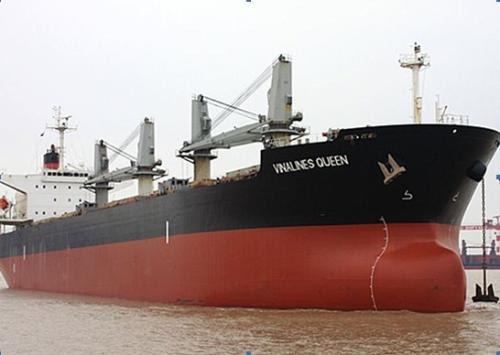Cargoship: (1, 39, 495, 311)
